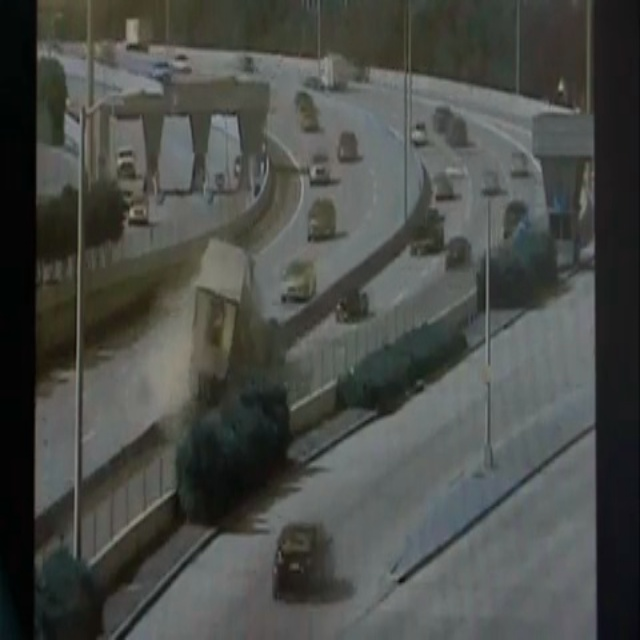acc: (146, 237, 252, 428)
